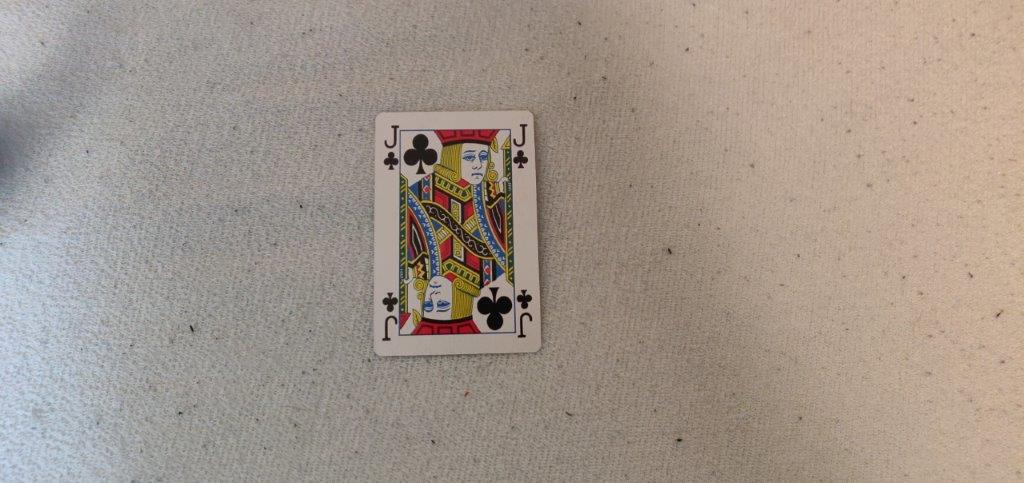JC: (511, 116, 532, 176), (381, 121, 400, 174)
